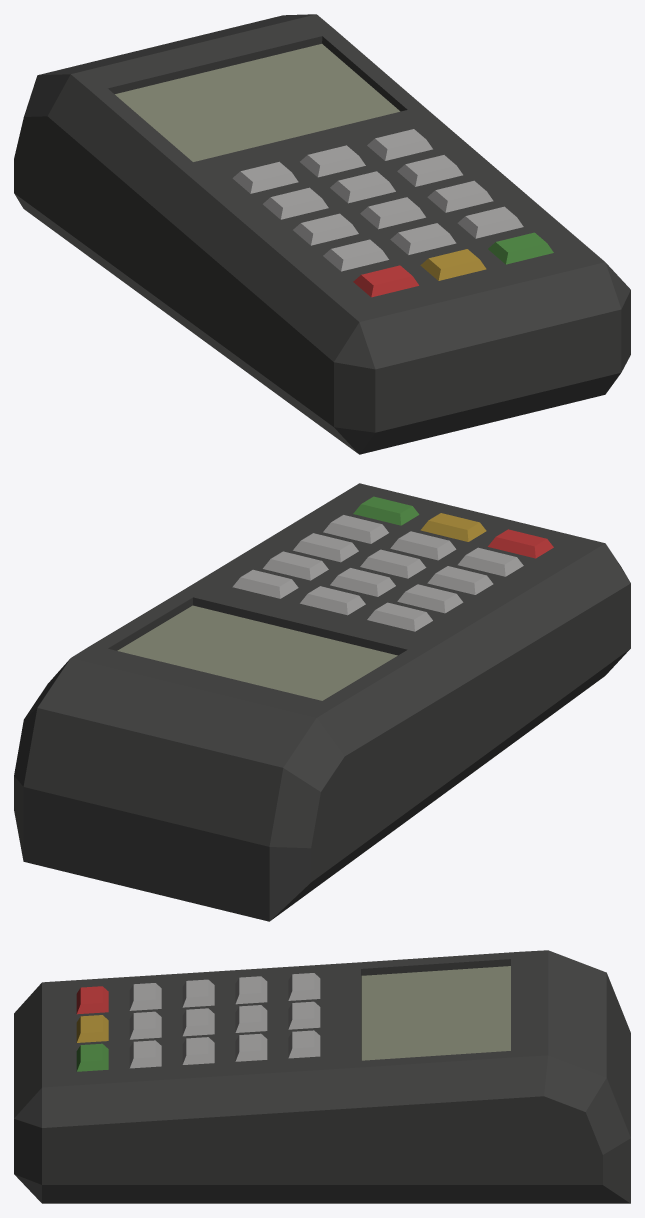
The model's file is SM_Props_Interior_Shop_CardMachine_01.fbx.
3 views of the same model, one above another, from view 1: azimuth 30°, elevation 25°; view 2: azimuth 150°, elevation 25°; view 3: azimuth 270°, elevation 25° (orthographic). The views are drawn at different scales.
Visible parts, largest first — view 1: SM_Props_Interior_Shop_CardMachine_01; view 2: SM_Props_Interior_Shop_CardMachine_01; view 3: SM_Props_Interior_Shop_CardMachine_01.
Part boxes in pixels (bbox=[...]): SM_Props_Interior_Shop_CardMachine_01: bbox=[14, 14, 630, 454]; SM_Props_Interior_Shop_CardMachine_01: bbox=[14, 483, 630, 921]; SM_Props_Interior_Shop_CardMachine_01: bbox=[14, 950, 630, 1203].
Size of the model in its own units: 8.29 by 4.51 by 17.
